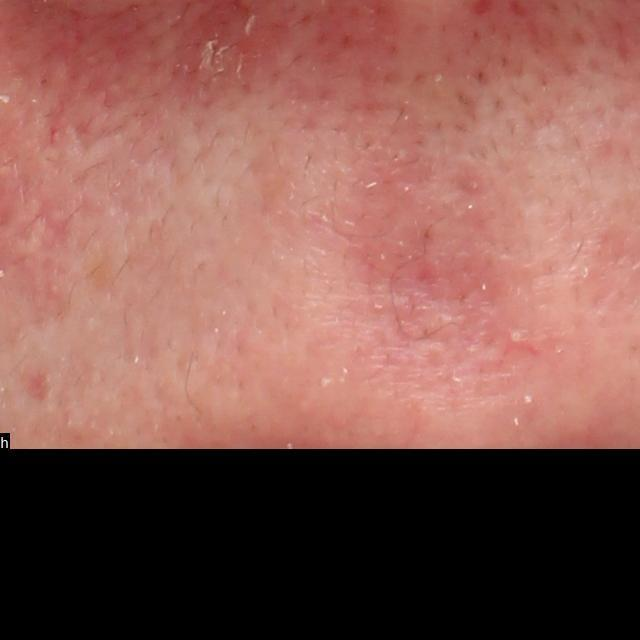atrophic_scar: (24, 372, 52, 403)
